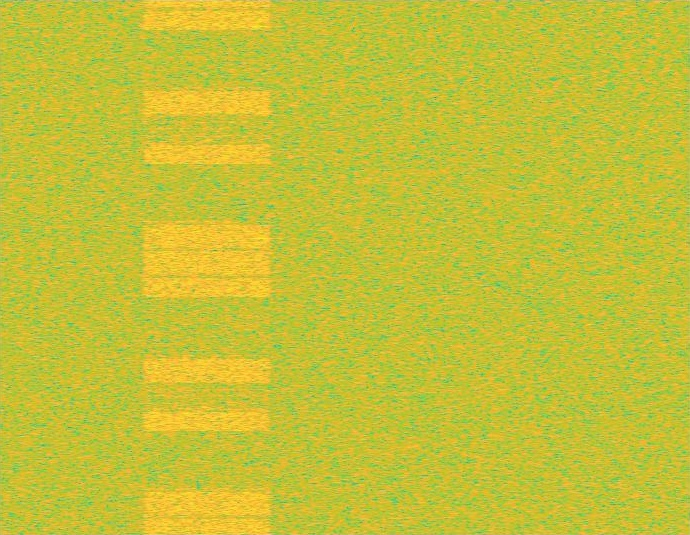LTE: (138, 0, 276, 534)
Radar: (253, 0, 267, 534)
